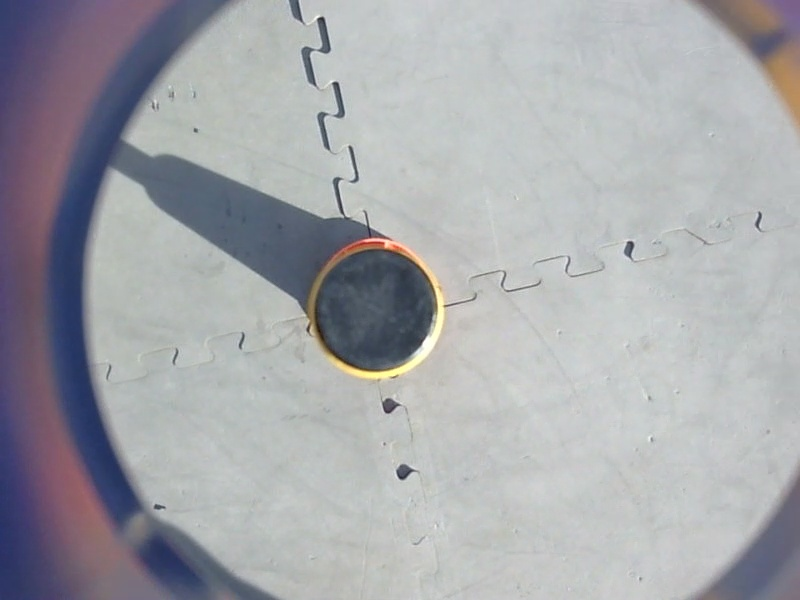tip: (302, 243, 451, 385)
